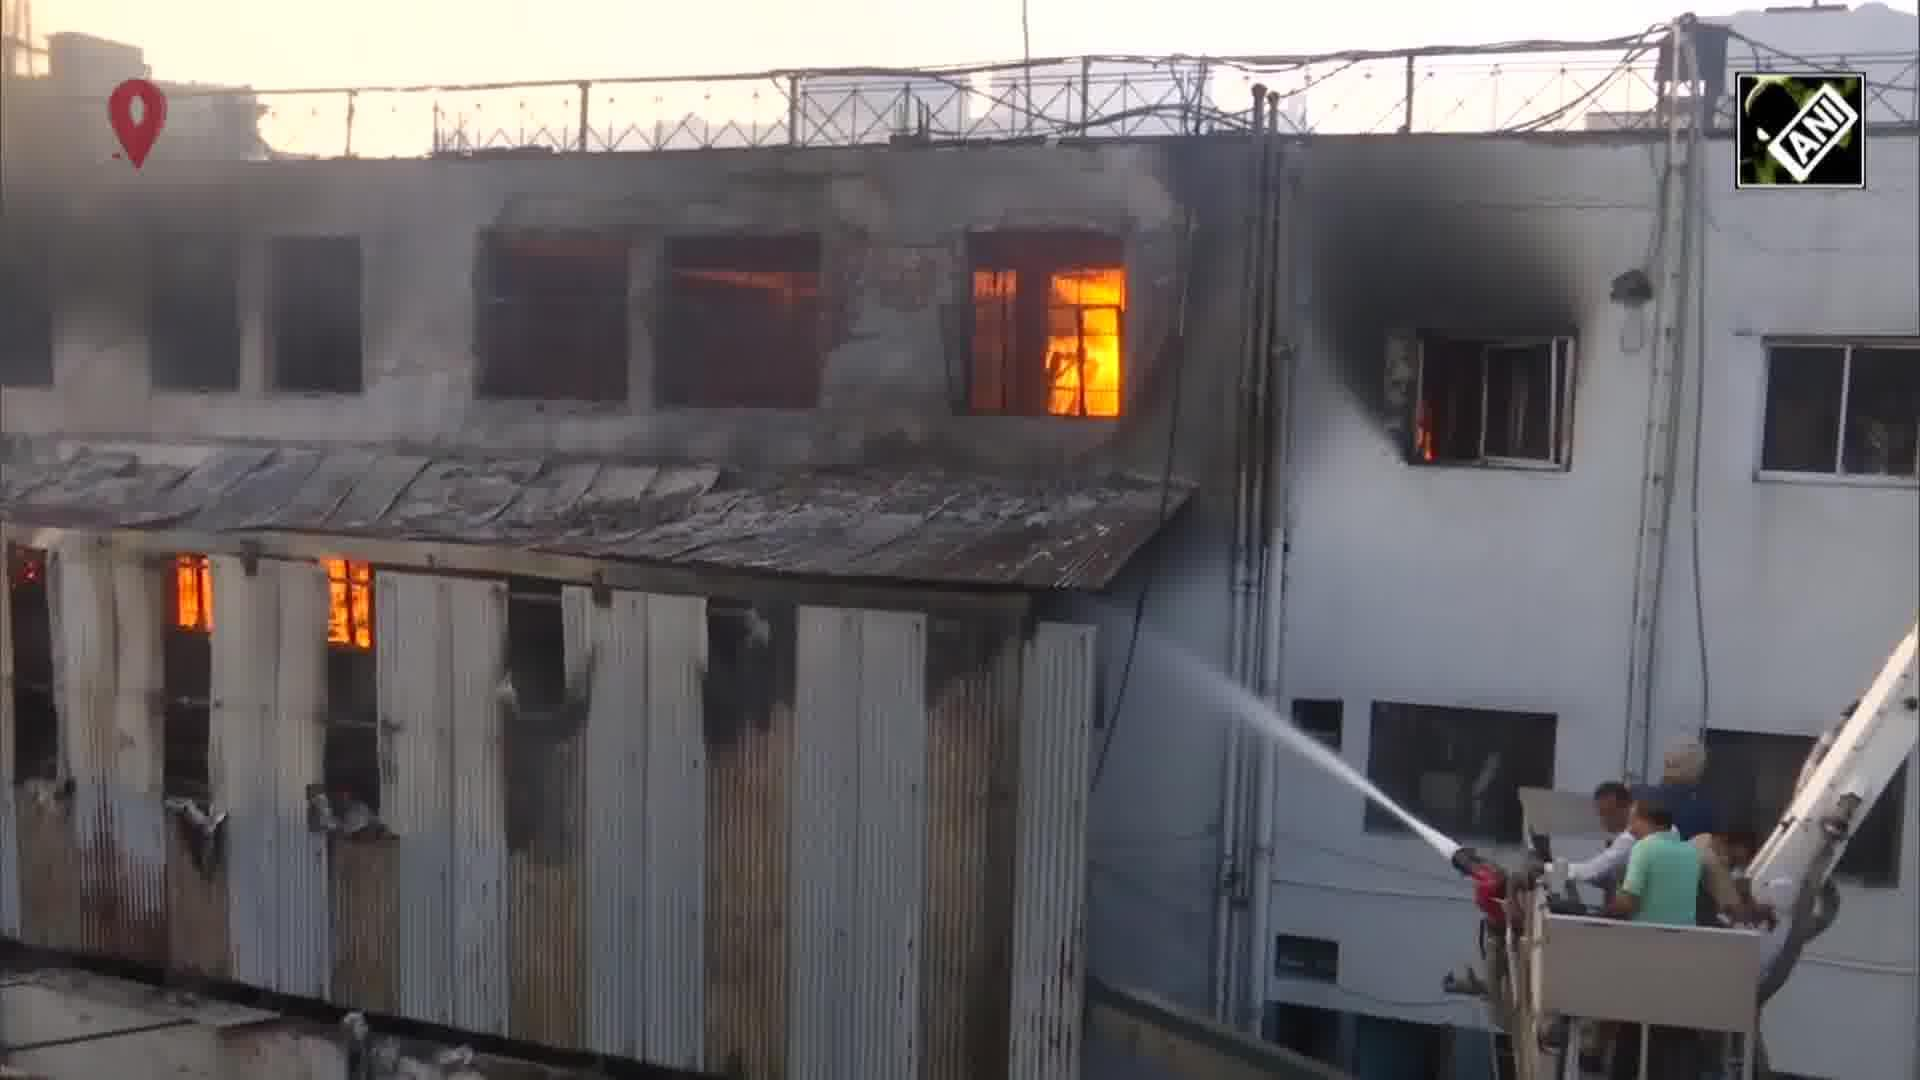fire: (1040, 268, 1122, 419), (320, 555, 375, 644), (173, 543, 207, 640)
